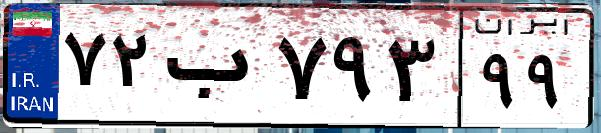2: (110, 28, 158, 98)
3: (385, 28, 445, 110)
7: (270, 28, 330, 110), (57, 26, 110, 100)
9: (330, 28, 385, 110), (475, 38, 525, 113), (525, 38, 570, 115)
ب: (158, 20, 270, 120)
